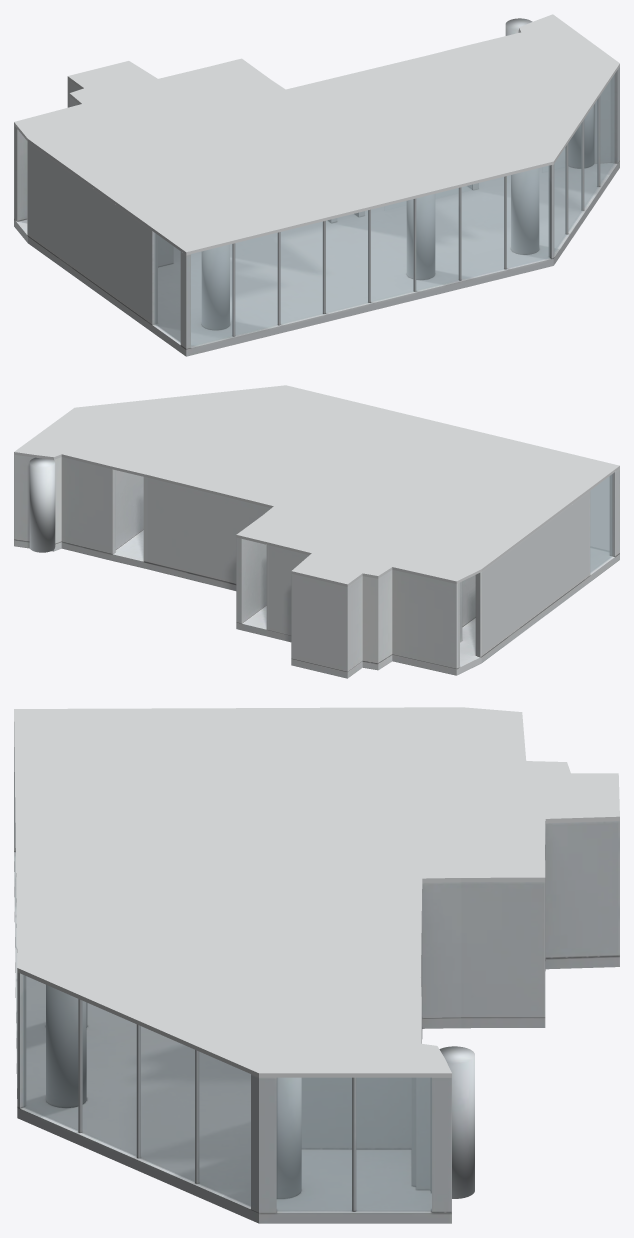
Rendered from dollhouse.glb.
The picture shows the model from 3 angles, top to bottom: view 1: azimuth 30°, elevation 25°; view 2: azimuth 150°, elevation 25°; view 3: azimuth 270°, elevation 25°; orthographic projection. The views are drawn at different scales.
Parts seen in each view (by area): view 1: ceiling, glazing_facade, floor, walls, columns, mullions; view 2: ceiling, walls, floor, columns, glazing_facade; view 3: ceiling, glazing_facade, walls, floor, columns, mullions.
Part boxes in pixels (box(x1,y1,x2,y2)): ceiling: box(14, 14, 619, 255); glazing_facade: box(154, 74, 614, 346); floor: box(14, 149, 619, 356); walls: box(14, 31, 619, 349); columns: box(201, 18, 593, 330); mullions: box(232, 96, 600, 336); ceiling: box(14, 385, 619, 586); walls: box(14, 454, 619, 671); floor: box(14, 530, 619, 678); columns: box(29, 457, 55, 552); glazing_facade: box(590, 474, 612, 572); ceiling: box(14, 707, 619, 1077); glazing_facade: box(23, 975, 431, 1210); walls: box(14, 726, 619, 1212); floor: box(14, 852, 619, 1223); columns: box(46, 985, 474, 1198); mullions: box(78, 999, 356, 1211).
Size of the model in its own units: 22.05 by 4.22 by 15.42.
Materials: 7 (4 with a texture image).
